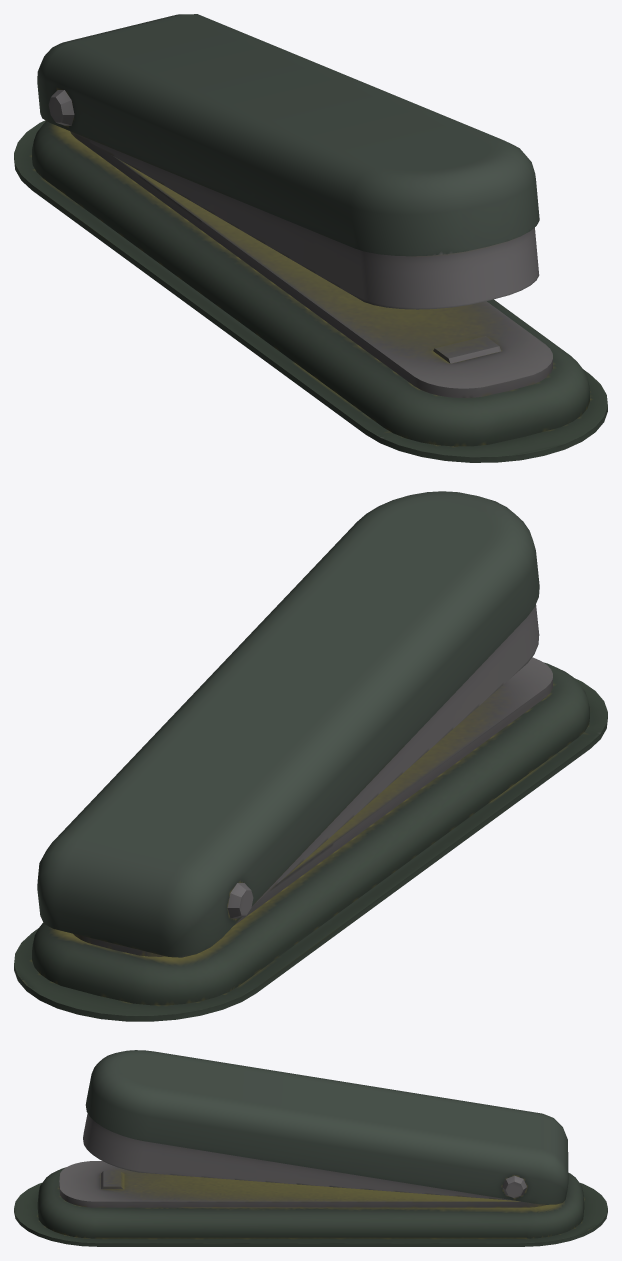
Rendered from Stapler.fbx.
3 views of the same model, one above another, from view 1: azimuth 30°, elevation 25°; view 2: azimuth 150°, elevation 25°; view 3: azimuth 270°, elevation 25° (orthographic). The views are drawn at different scales.
Parts seen in each view (by area): view 1: Stapler; view 2: Stapler; view 3: Stapler.
Part boxes in pixels (box(x1,y1,x2,y2)): Stapler: box(14, 14, 607, 462); Stapler: box(14, 491, 607, 1021); Stapler: box(14, 1050, 607, 1246).
Bounding box in the file's own units: 5 × 5 × 18.
